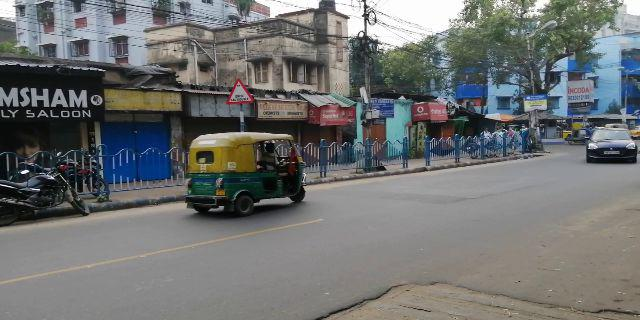Autorickshaw: (187, 137, 316, 219)
Car: (582, 128, 638, 158)
Motorbike: (1, 154, 94, 225)
